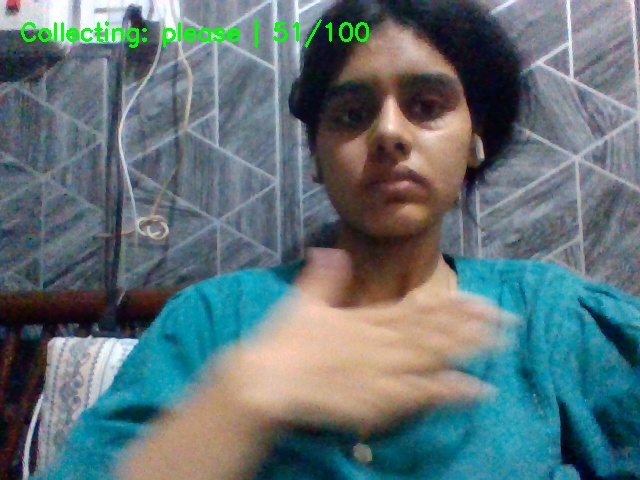please: (215, 242, 525, 450)
